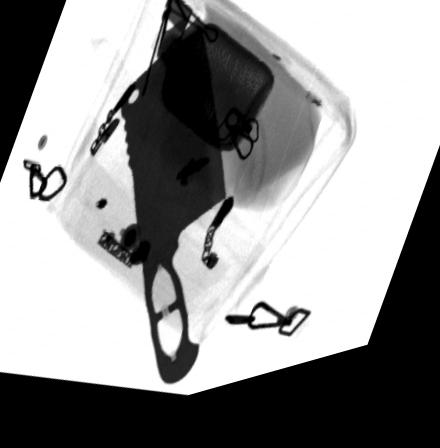Knife: (116, 34, 227, 396)
